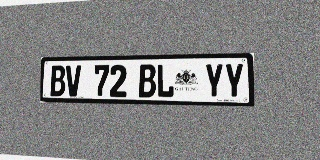2: (110, 65, 126, 97)
7: (93, 65, 109, 97)
B: (139, 64, 156, 98), (50, 65, 65, 96)
L: (156, 64, 174, 98)
V: (66, 65, 81, 96)
Y: (224, 63, 244, 99), (204, 63, 223, 98)
